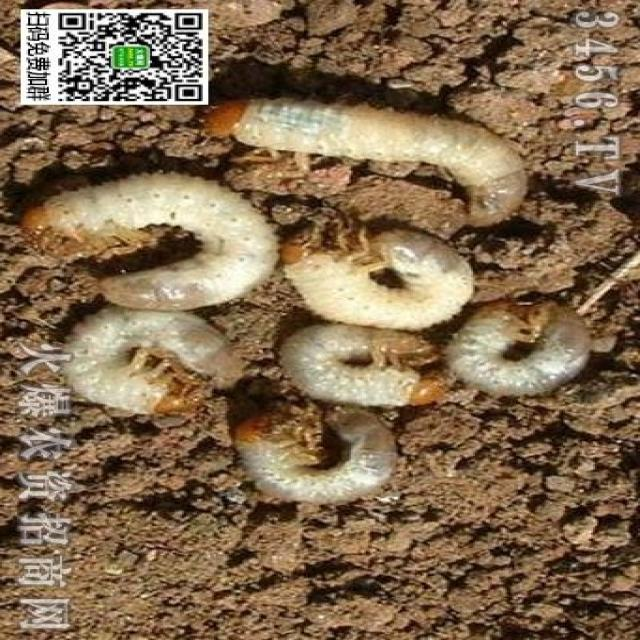grub: (200, 96, 545, 227), (17, 169, 270, 317), (284, 230, 488, 333), (229, 400, 404, 515), (66, 304, 237, 418), (450, 297, 596, 408), (278, 318, 445, 410)
